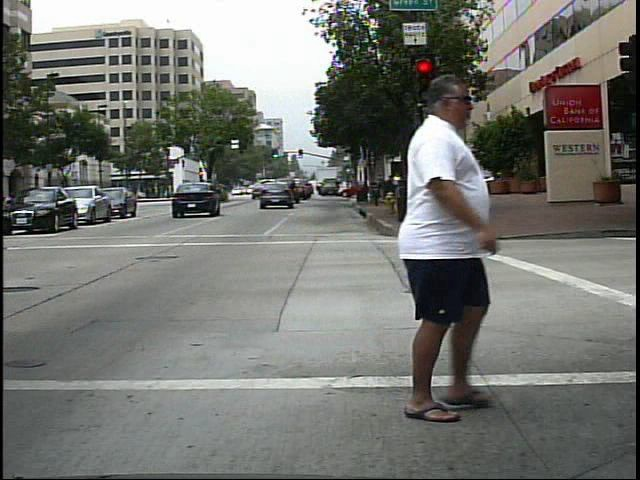person: (355, 74, 513, 423)
